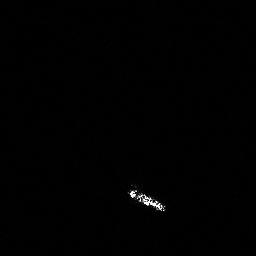ship: (126, 186, 167, 214)
